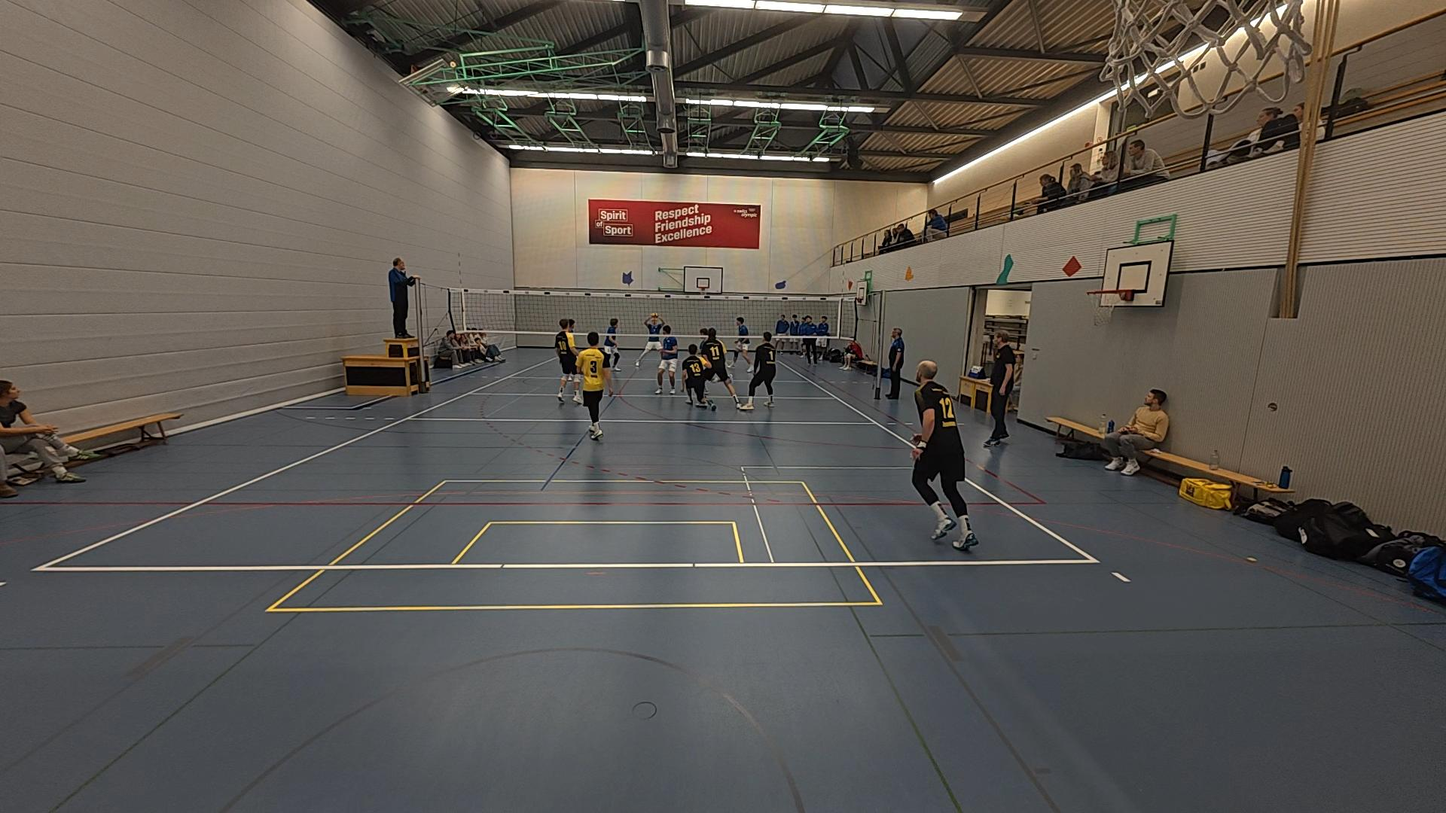Player: (909, 360, 977, 549), (578, 330, 616, 439), (739, 330, 777, 410), (698, 325, 732, 406), (695, 326, 734, 396), (554, 317, 581, 404), (682, 338, 712, 410), (654, 323, 680, 396), (556, 318, 578, 384), (601, 317, 623, 373), (733, 315, 751, 372)
Receive: (634, 309, 663, 367)
ball: (651, 312, 658, 318)
